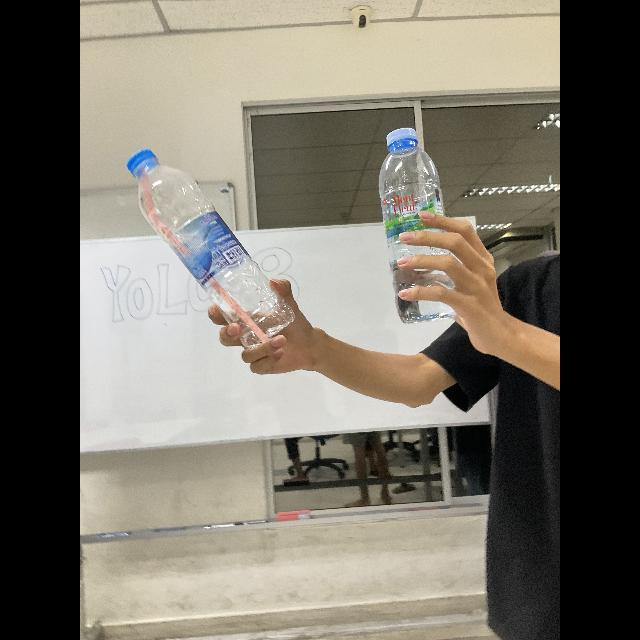plastic_bottle: (128, 148, 294, 348), (378, 127, 457, 323)
